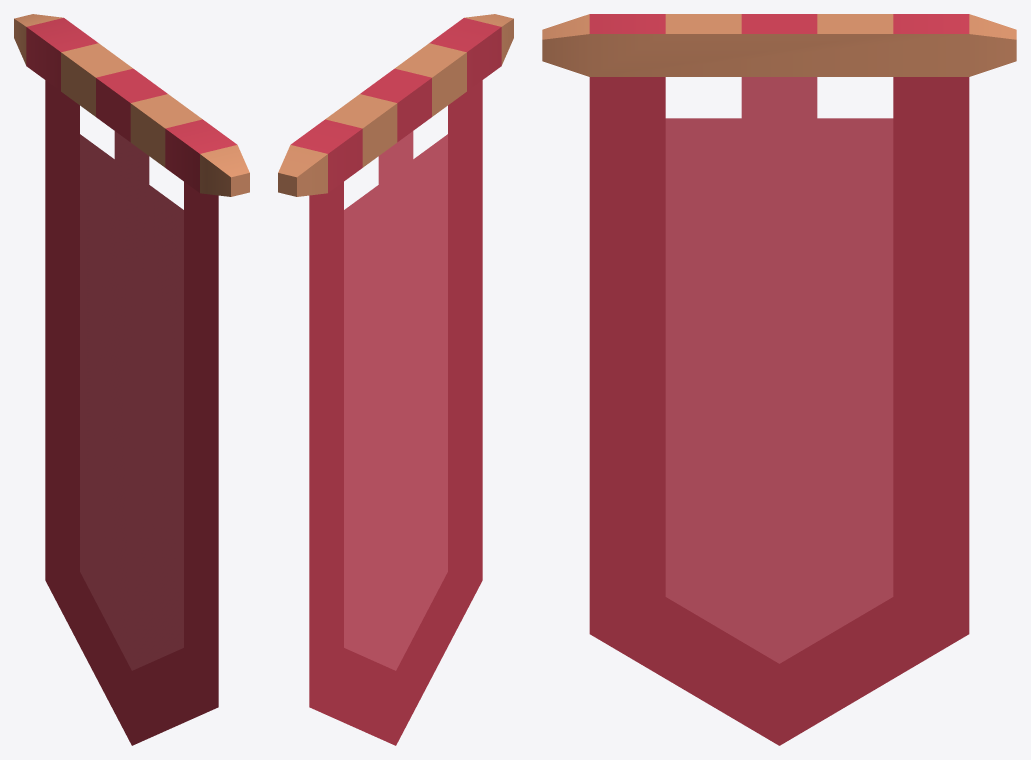
The model's file is bannerRed.fbx.
3 views of the same model, side by side, from view 1: azimuth 30°, elevation 25°; view 2: azimuth 150°, elevation 25°; view 3: azimuth 270°, elevation 25° (orthographic). The views are drawn at different scales.
Parts seen in each view (by area): view 1: bannerRed; view 2: bannerRed; view 3: bannerRed.
Boxes of the visible parts, <box> form: bannerRed: <box>14,14,249,745</box>; bannerRed: <box>278,14,513,745</box>; bannerRed: <box>542,14,1016,745</box>.
Bounding box in the file's own units: 0.5 × 8.39 × 5.
